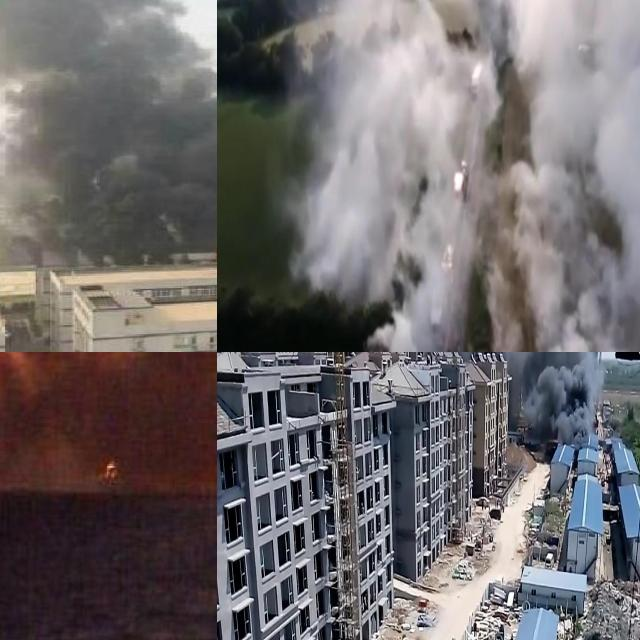smoke: (282, 0, 640, 352), (0, 0, 217, 256), (0, 352, 217, 459), (505, 352, 602, 447)
